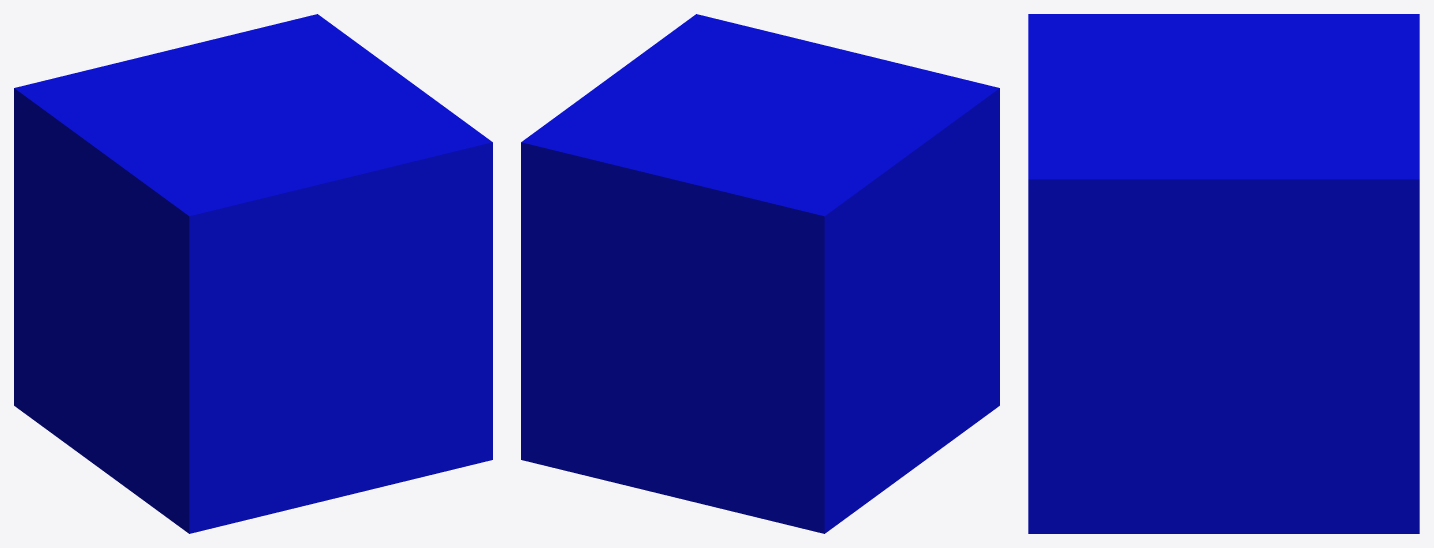
The model's file is animace_test.glb.
3 renders of one model, left to right at view 1: azimuth 30°, elevation 25°; view 2: azimuth 150°, elevation 25°; view 3: azimuth 270°, elevation 25°, orthographic. The views are drawn at different scales.
Parts seen in each view (by area): view 1: Cube; view 2: Cube; view 3: Cube.
Boxes of the visible parts, x1,y1,x2,y2 form: Cube: (14,14,492,533); Cube: (521,14,999,533); Cube: (1028,14,1419,533).
Bounding box in the file's own units: 2 × 2 × 2.
